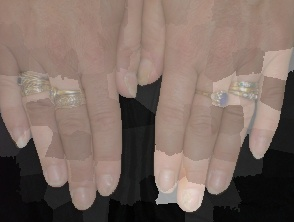Nail_psoriasis: (64, 178, 103, 217), (152, 161, 184, 199), (39, 156, 74, 190), (88, 165, 121, 199), (177, 180, 207, 215), (205, 165, 233, 196), (120, 64, 142, 102), (9, 120, 33, 149), (138, 50, 156, 88), (250, 135, 273, 159)
